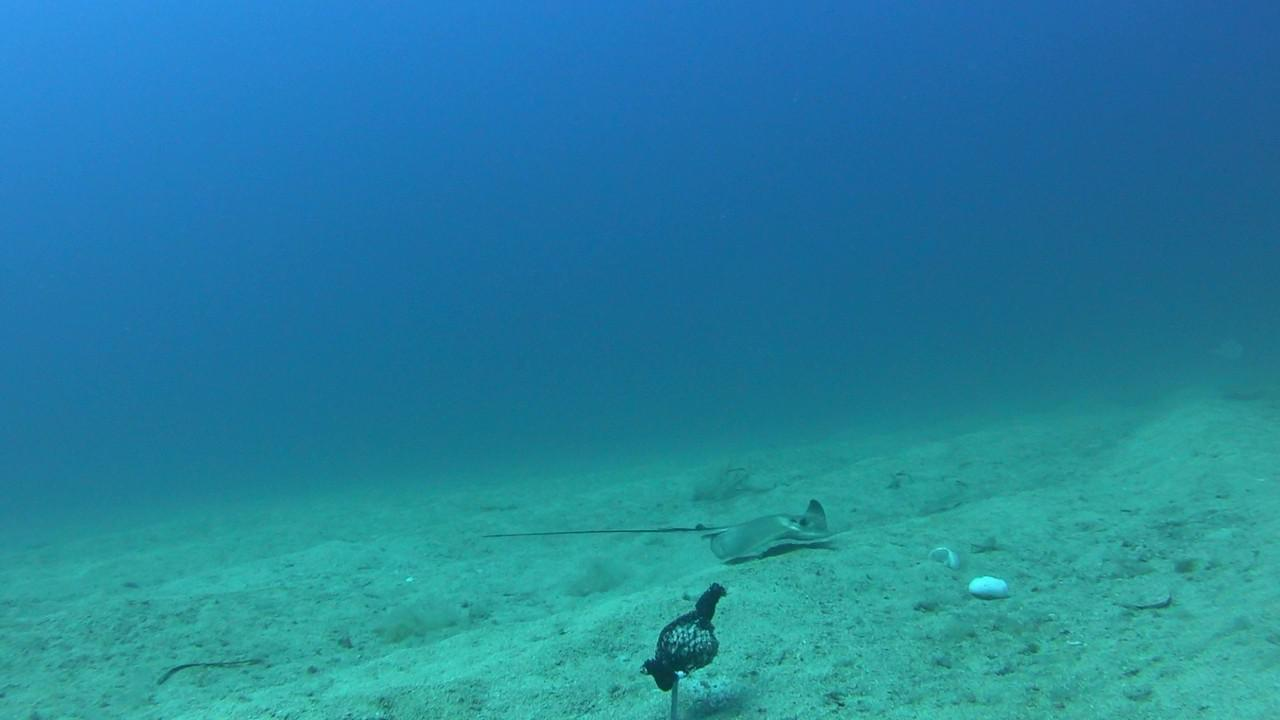myliobatis: (484, 501, 870, 569)
